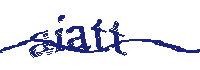a: (65, 23, 92, 51), (29, 30, 54, 58)
i: (55, 12, 65, 56)
t: (91, 15, 111, 53), (109, 18, 129, 56)
